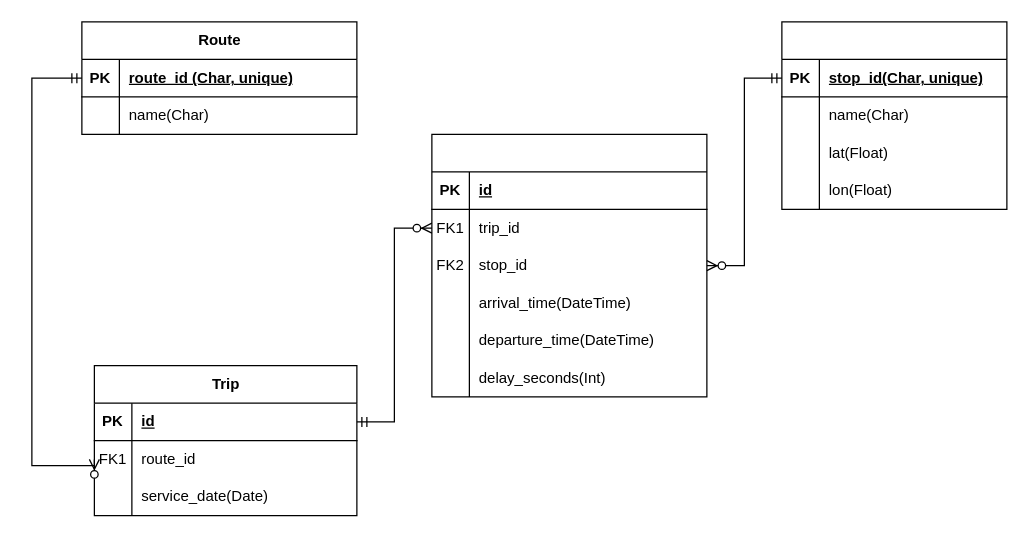
This 1029x538 diagram has some shape labels left out. Each missing label, with the box of its shape:
BusStop: (781, 21, 1007, 209)
StopEvent: (431, 133, 707, 397)
